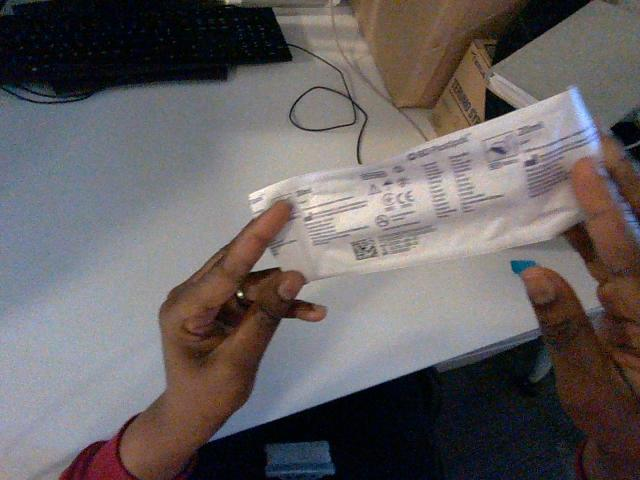syringe: (249, 88, 601, 280)
